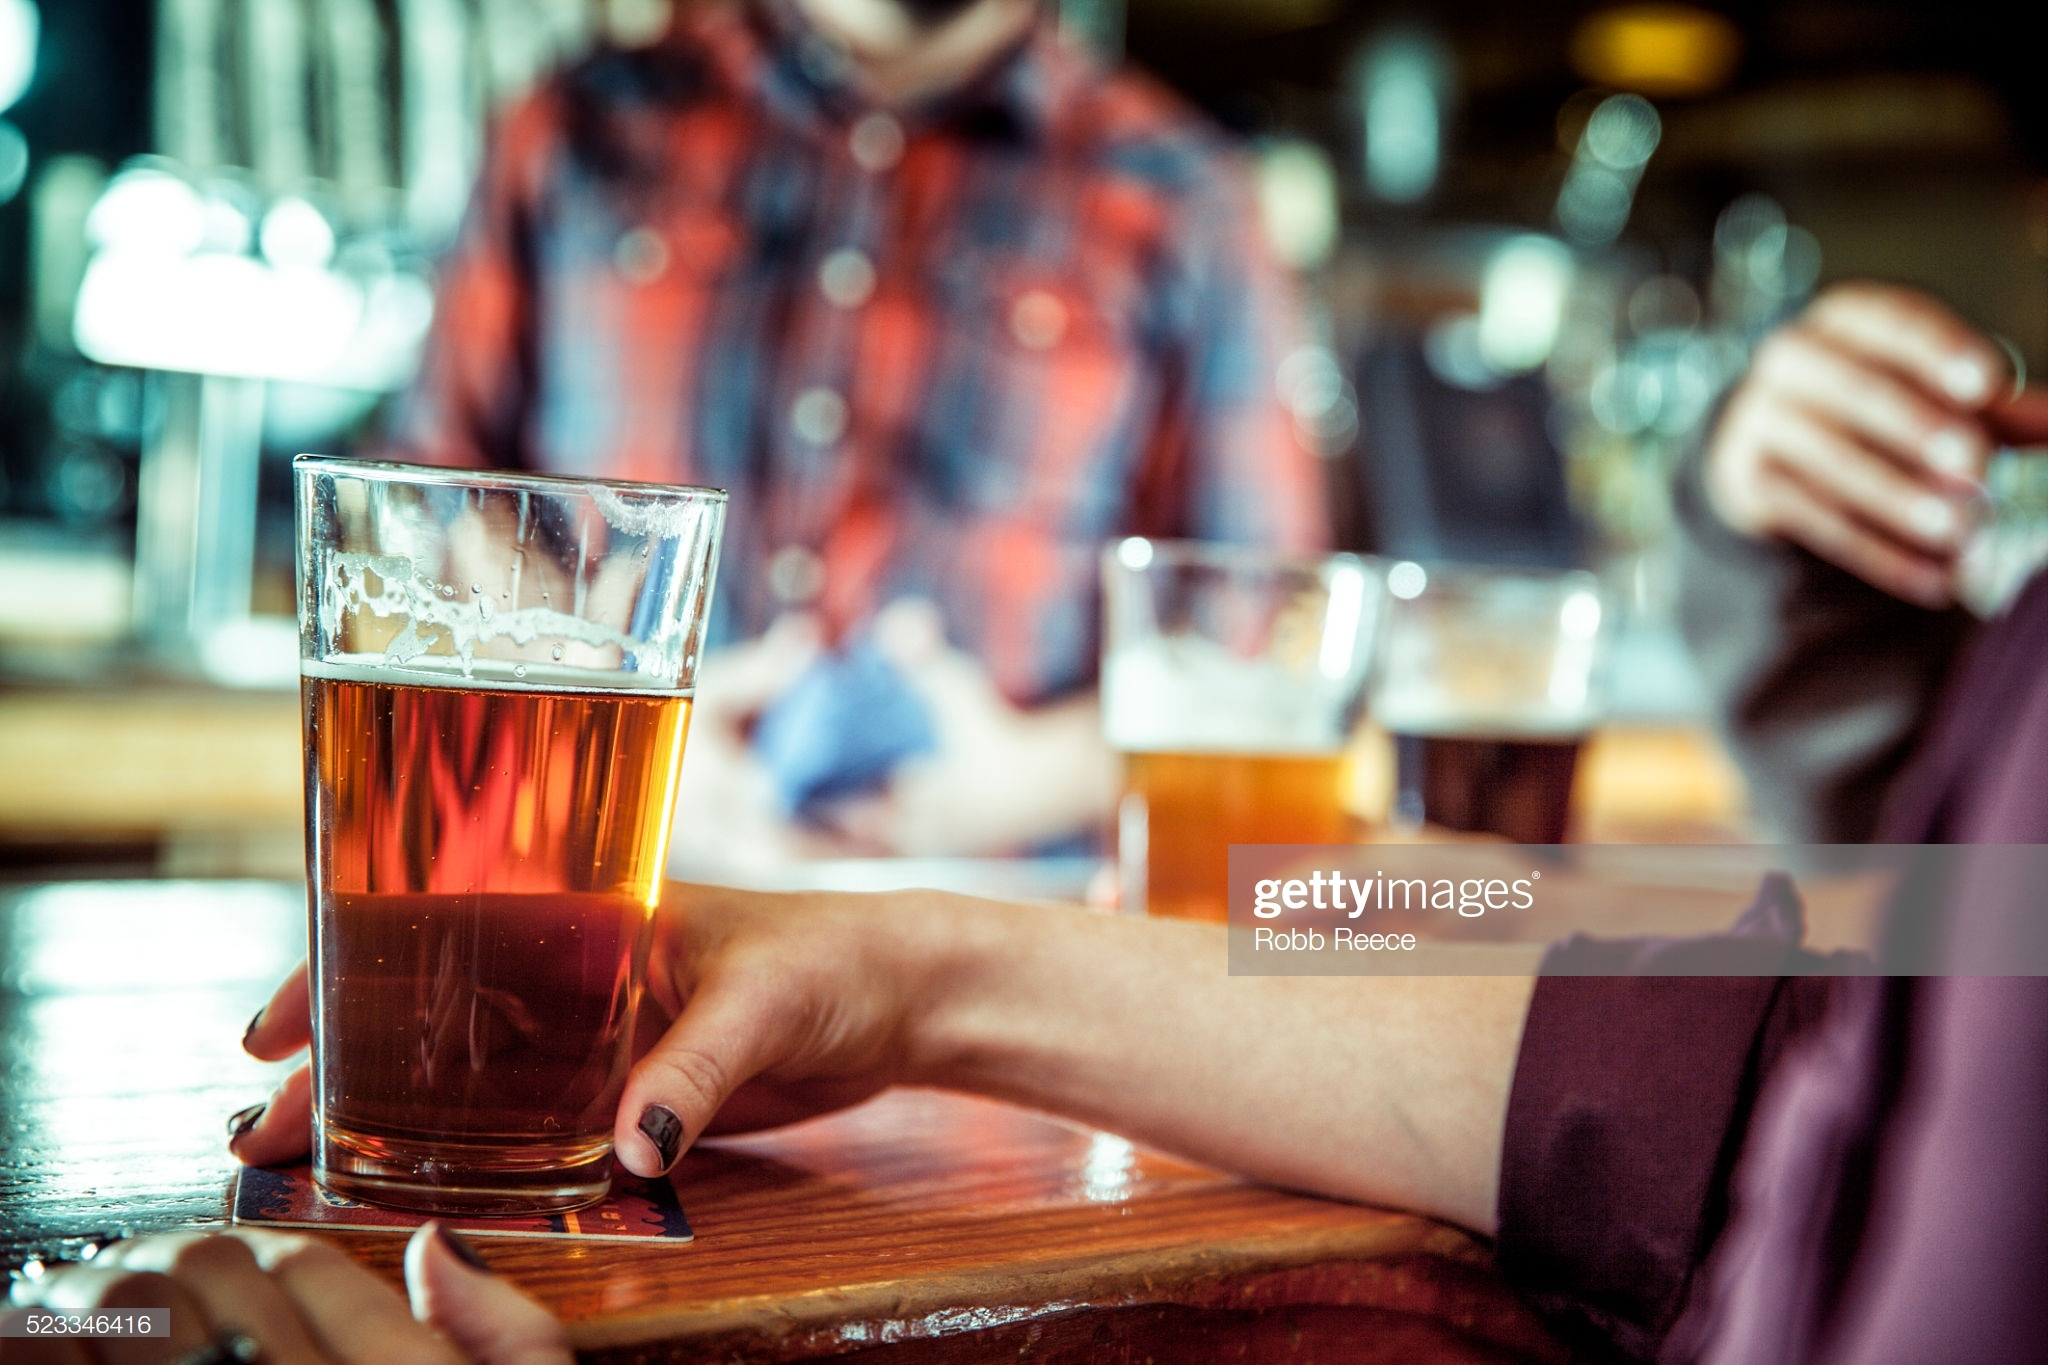glassBeer: (276, 456, 678, 1193)
